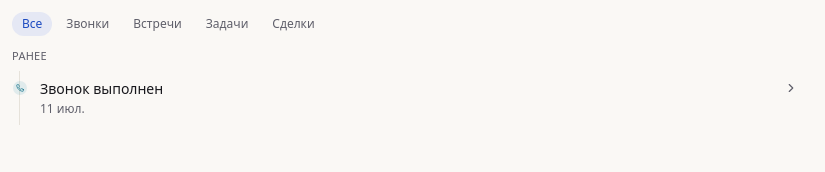
Test case: S-TL-3 — виды уходят в RPC › пустой ответ при выбранном виде — «нет событий этого типа», а не «нет активности»
The width and height of the screenshot is (825, 172).
Expected: the text "Звонок выполнен" is shown, [40,78,163,98]
Click the button "Задачи". click: (227, 24)
box: [196,12,258,36]
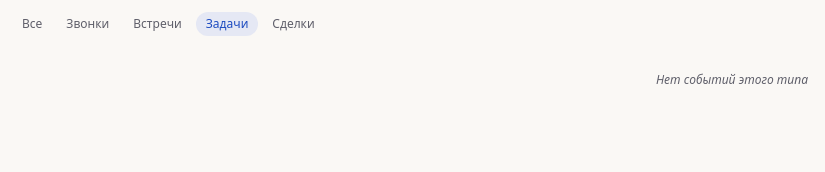
Expected: the text "Нет событий этого типа" is shown, [656,71,808,88]
